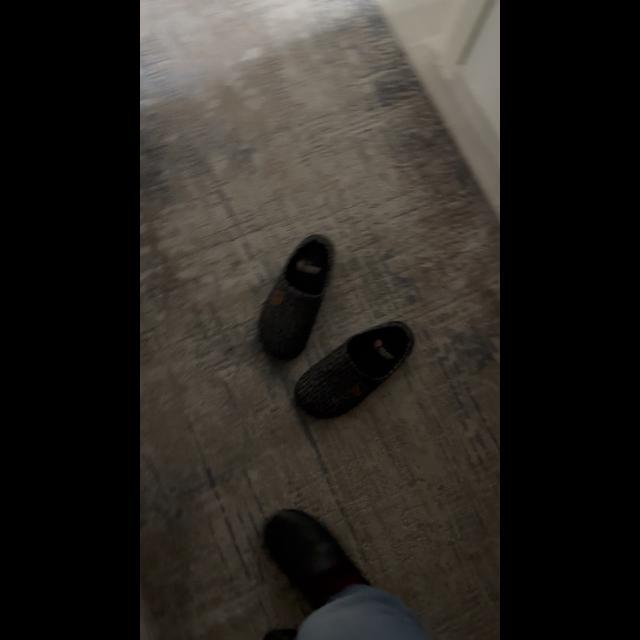slipper: (292, 317, 416, 425), (253, 234, 334, 368)
